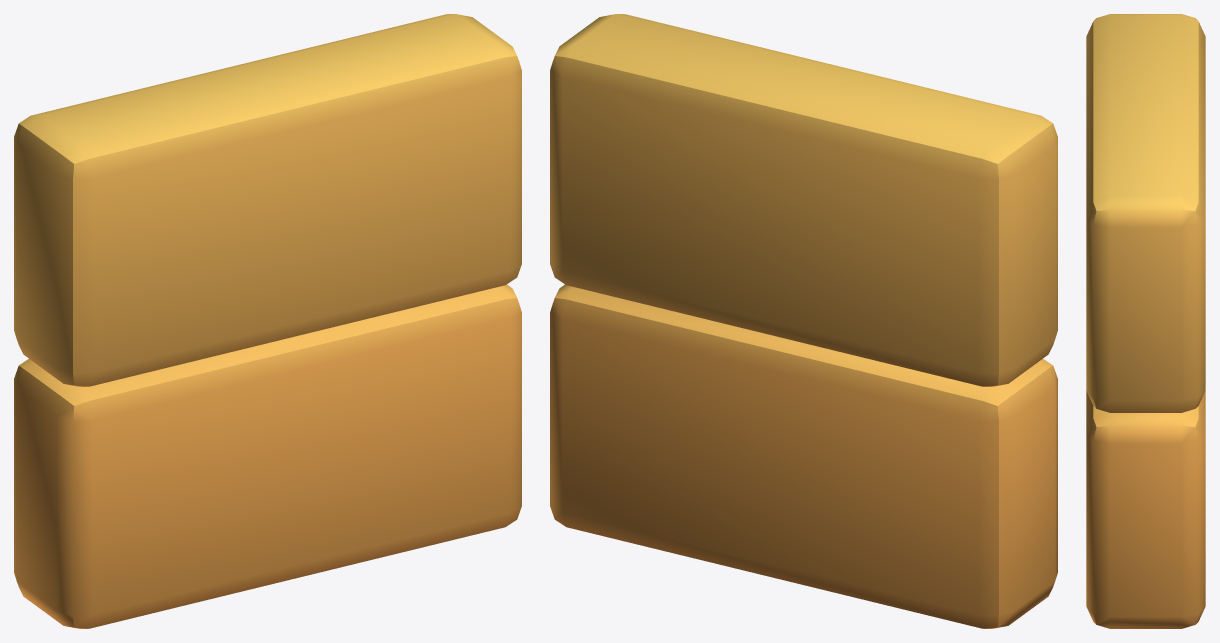
The model's file is barrier_4x1x4_yellow.glb.
3 renders of one model, left to right at view 1: azimuth 30°, elevation 25°; view 2: azimuth 150°, elevation 25°; view 3: azimuth 270°, elevation 25°, orthographic. The views are drawn at different scales.
Parts seen in each view (by area): view 1: barrier_4x1x4_yellow; view 2: barrier_4x1x4_yellow; view 3: barrier_4x1x4_yellow.
Part boxes in pixels (left/top/right/bottom): barrier_4x1x4_yellow: left=14, top=14, right=521, bottom=628; barrier_4x1x4_yellow: left=550, top=14, right=1057, bottom=628; barrier_4x1x4_yellow: left=1086, top=14, right=1205, bottom=628.
Size of the model in its own units: 4 by 4 by 1.
1 material, 1 textured.
